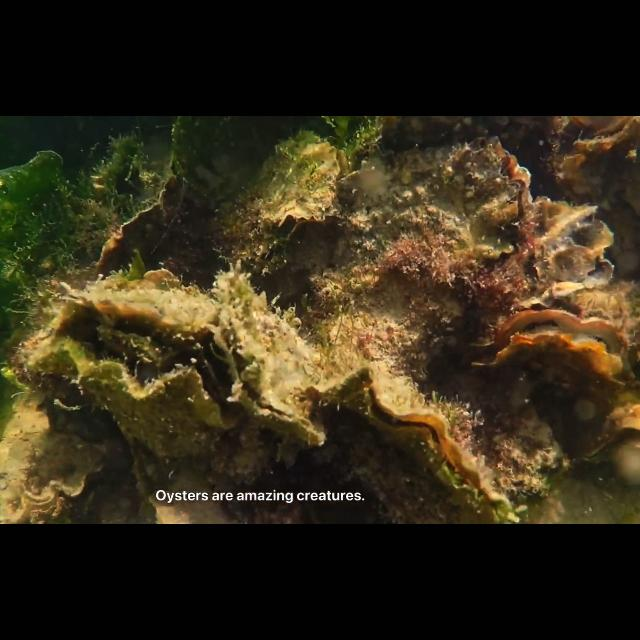Oyster-Closed: (95, 160, 219, 278)
Oyster-Open: (324, 134, 534, 380), (30, 289, 248, 461), (302, 365, 512, 525), (213, 270, 329, 450), (469, 309, 631, 399), (549, 116, 640, 272), (518, 196, 616, 310), (0, 431, 112, 525), (260, 142, 344, 245), (212, 184, 290, 276), (120, 429, 170, 525), (578, 403, 640, 467)
